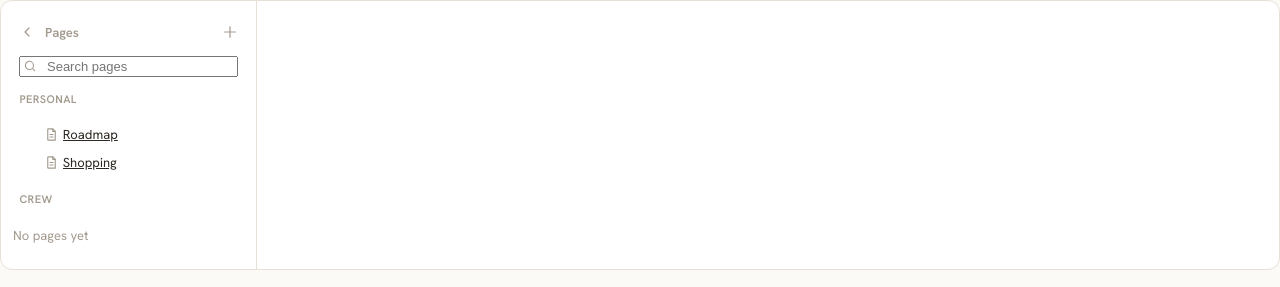
Scenario: PagesPage › filters the tree as you type and restores it when cleared
The width and height of the screenshot is (1280, 287).
Expected: the text "Shopping" is shown, top-left (63, 154), bottom-right (117, 171)
In the search field labelled "Search pages": (128, 66) top-left (19, 56), bottom-right (238, 77), type "road"
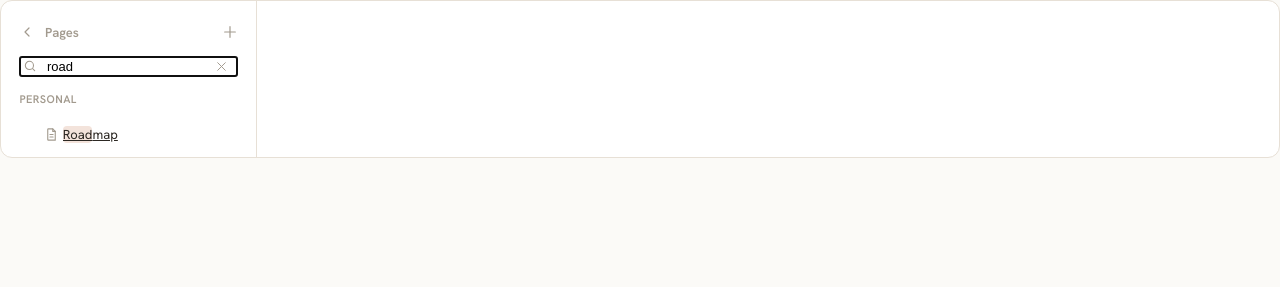
Expected: the link "Roadmap" is shown, top-left (44, 126), bottom-right (118, 143)
Expected: the link "Shopping" is gone
Click the button named "Clear search": (221, 66) top-left (209, 59), bottom-right (234, 74)
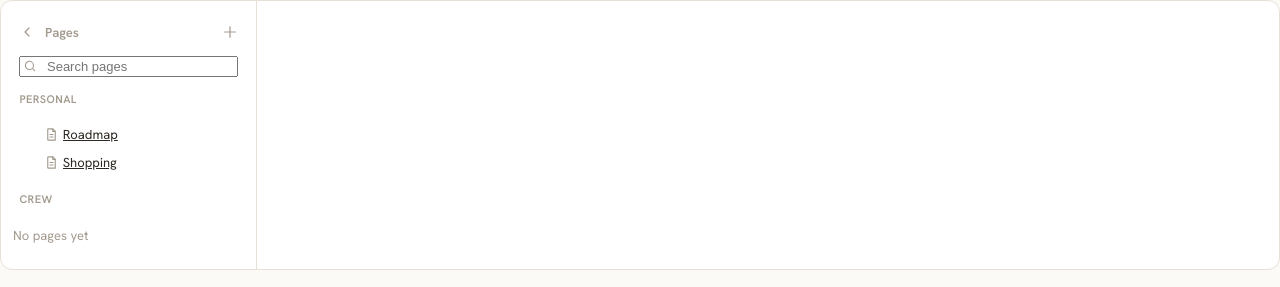
Expected: the text "Shopping" is shown, top-left (63, 154), bottom-right (117, 171)
